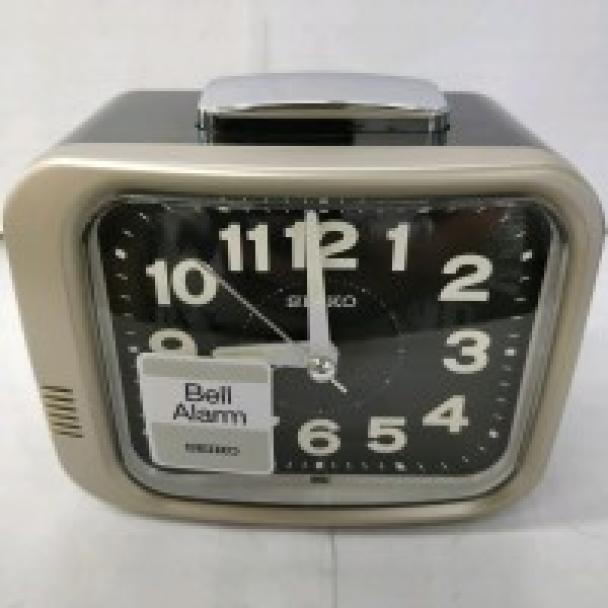Jam: (0, 51, 608, 544)
